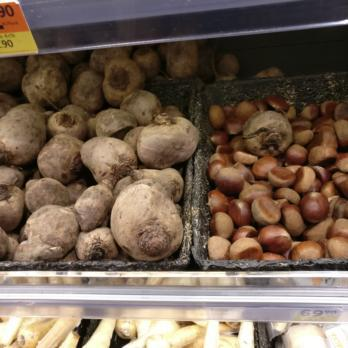beetroot: (0, 46, 193, 262), (239, 109, 293, 156)
